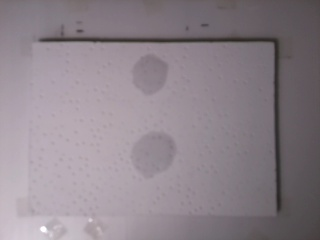Water_detected: (131, 132, 169, 173), (134, 61, 167, 88)
